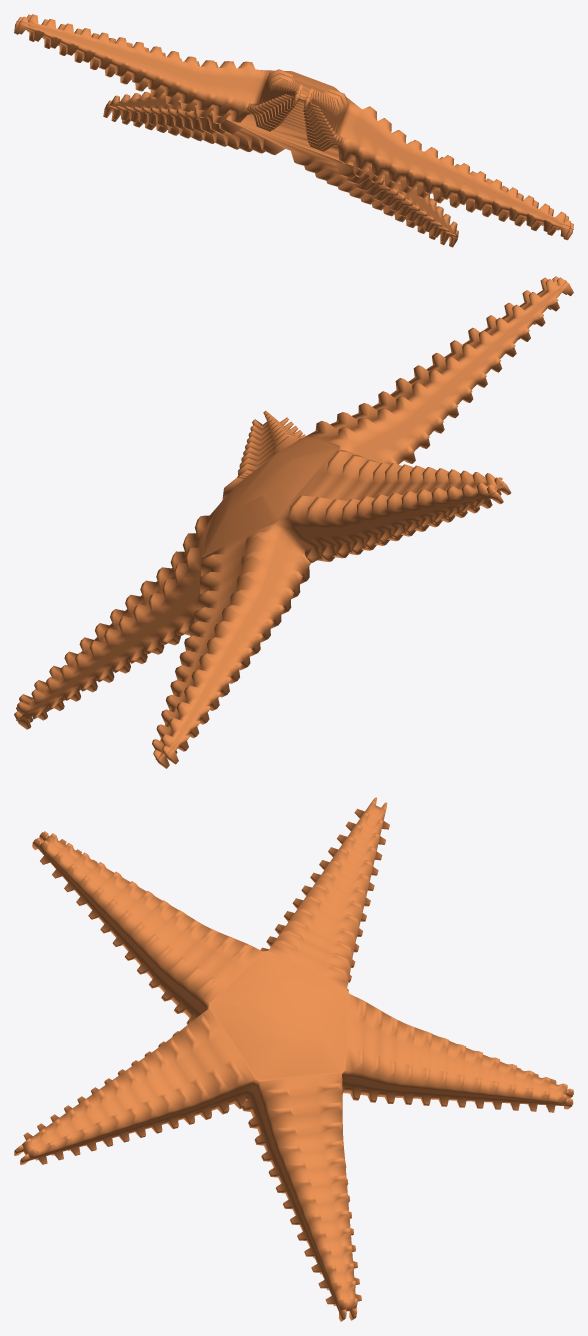
File: bintang laut.fbx
3 views of the same model, one above another, from view 1: azimuth 30°, elevation 25°; view 2: azimuth 150°, elevation 25°; view 3: azimuth 270°, elevation 25° (orthographic). The views are drawn at different scales.
Parts seen in each view (by area): view 1: bintang laut 3; view 2: bintang laut 3; view 3: bintang laut 3.
Boxes of the visible parts, x1,y1,x2,y2 form: bintang laut 3: (14, 14, 573, 247); bintang laut 3: (14, 276, 573, 768); bintang laut 3: (14, 797, 573, 1321).
Size of the model in its own units: 323 by 245 by 362.
